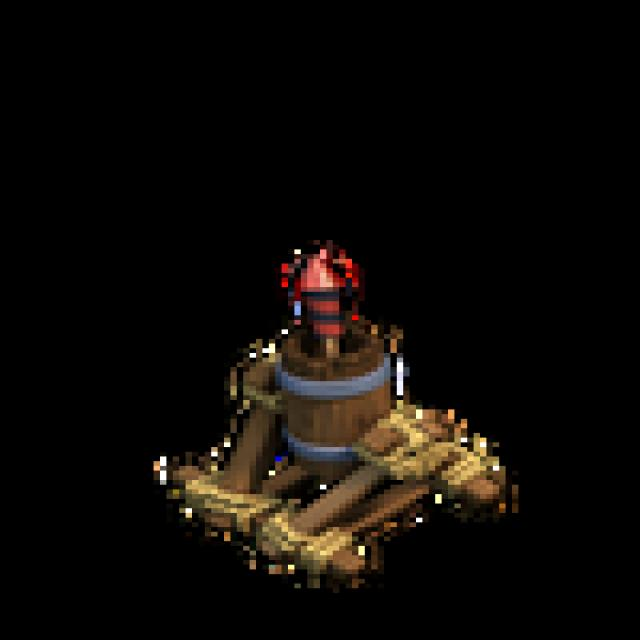air_defense: (131, 236, 524, 607)
